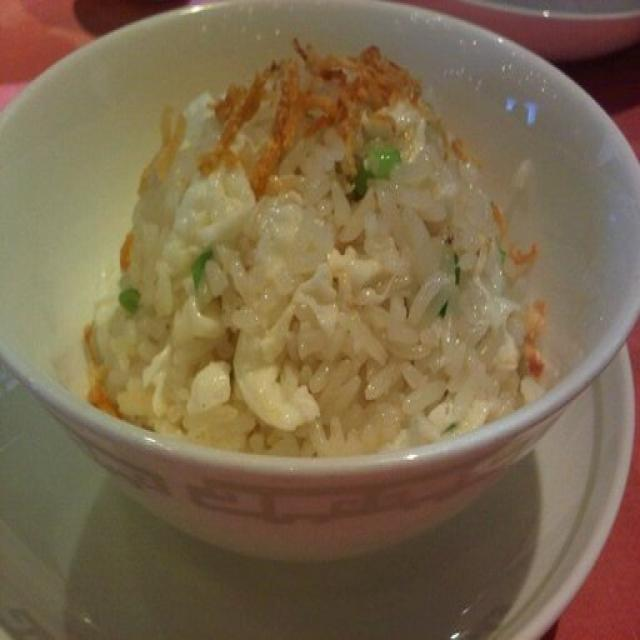Rice: (79, 37, 551, 453)
